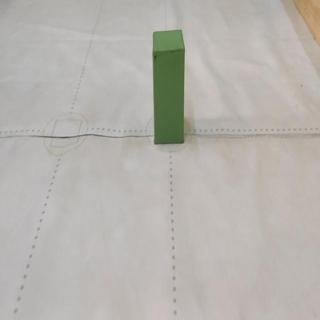greenbox: (154, 31, 185, 145)
